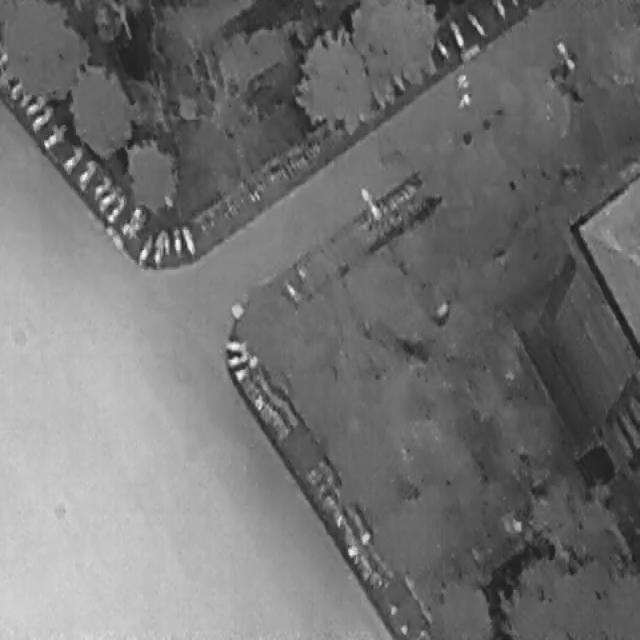Bicycle: (94, 178, 123, 214), (39, 118, 69, 152), (73, 155, 99, 190), (134, 228, 156, 268), (88, 171, 114, 204), (60, 141, 85, 175), (28, 101, 55, 132), (429, 31, 453, 64), (463, 7, 486, 38), (150, 228, 166, 272), (22, 92, 47, 118), (446, 16, 466, 48), (180, 224, 196, 258), (223, 348, 250, 368), (170, 225, 182, 255), (224, 339, 254, 349)
